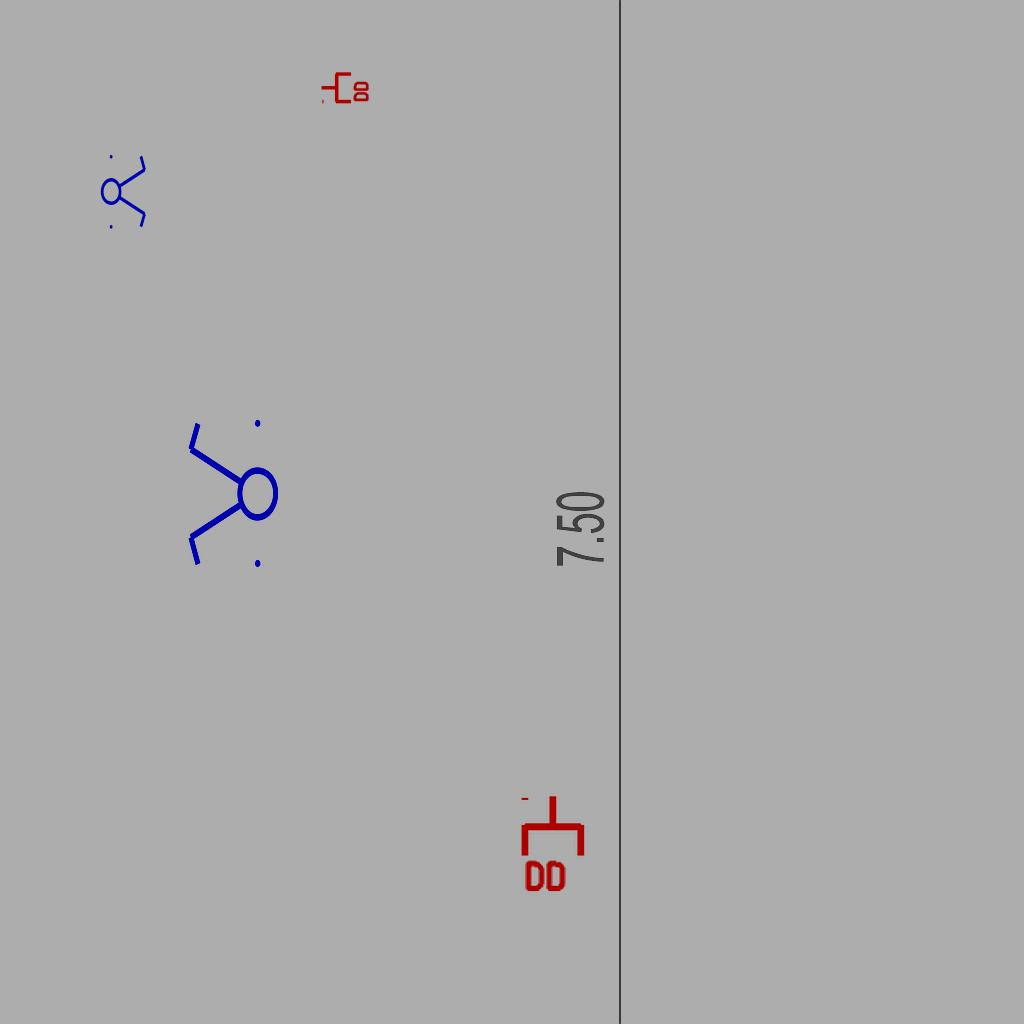Datenanschluss_zweifach: (520, 793, 589, 896), (320, 70, 371, 104)
Serienschalter: (184, 411, 280, 579), (100, 149, 148, 233)
